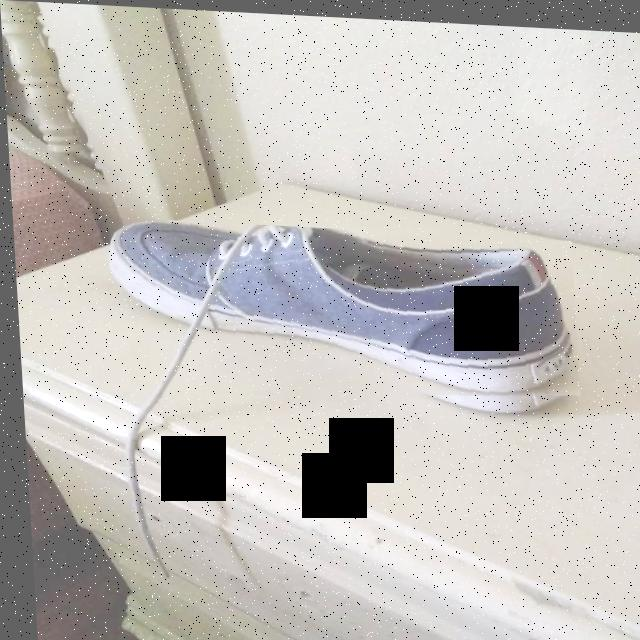shoe: (100, 216, 577, 414)
